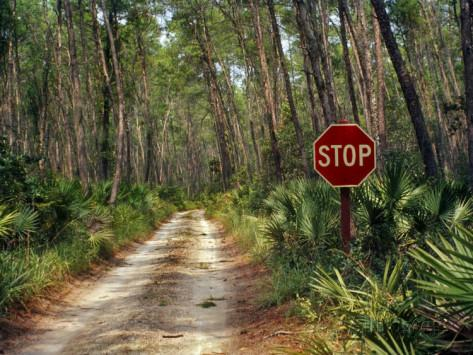Pole: (340, 187, 351, 248)
Sign: (312, 125, 377, 186)
